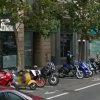Motorcycle: (15, 60, 65, 91)
